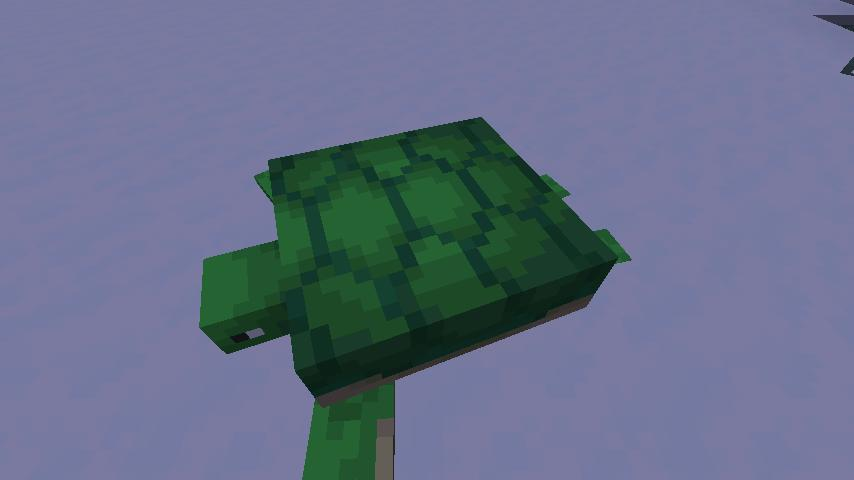turtle: (191, 113, 635, 480)
